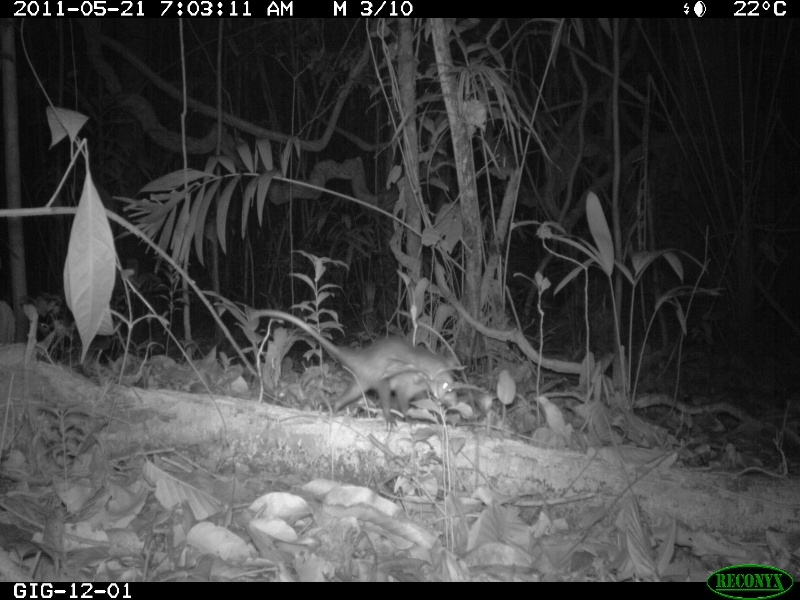opossum: (241, 304, 476, 424)
